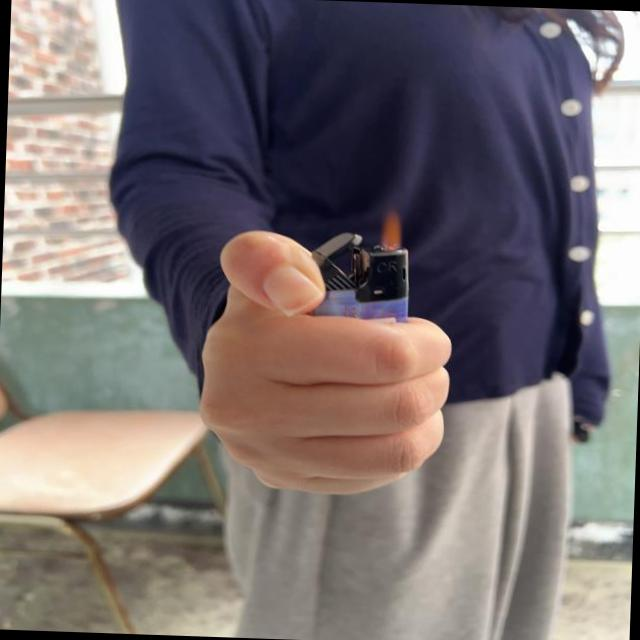Fire: (376, 210, 400, 252)
